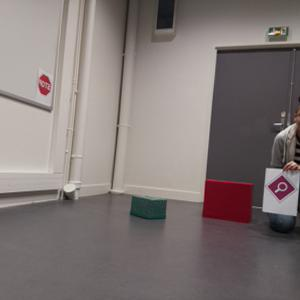search: (267, 174, 296, 202)
stop: (38, 73, 51, 96)
